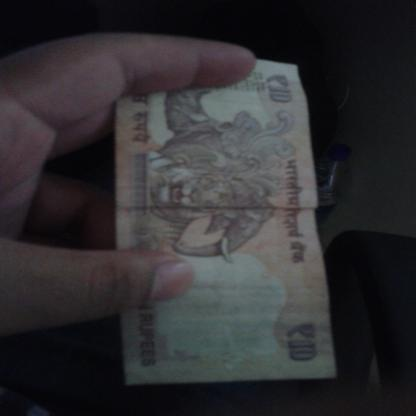Old10Back: (116, 60, 339, 388)
